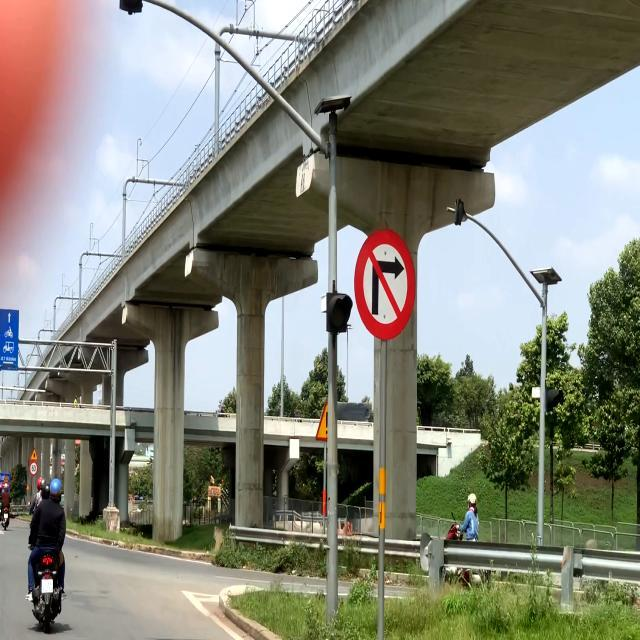P-123b: (358, 230, 414, 340)
